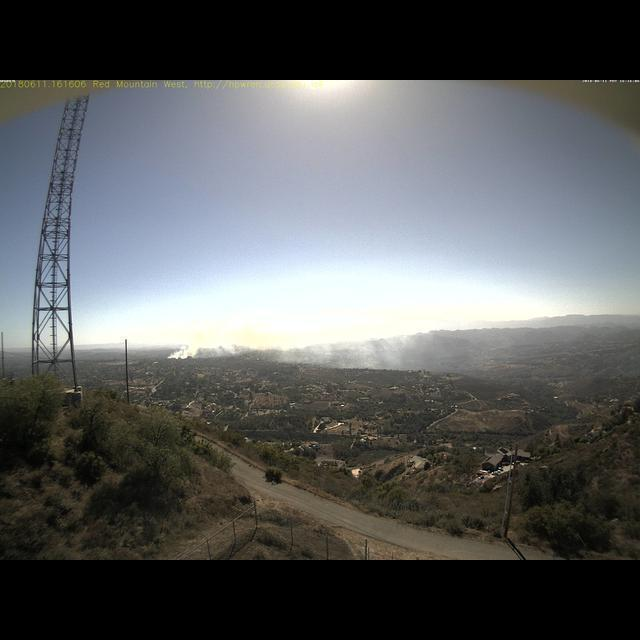Smoke: (166, 320, 424, 374)
